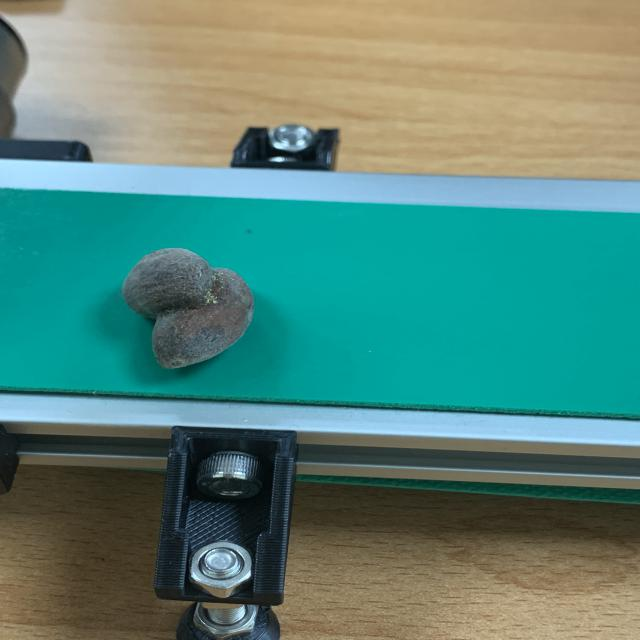Agglomerated_cocoabeans: (25, 242, 352, 406)
